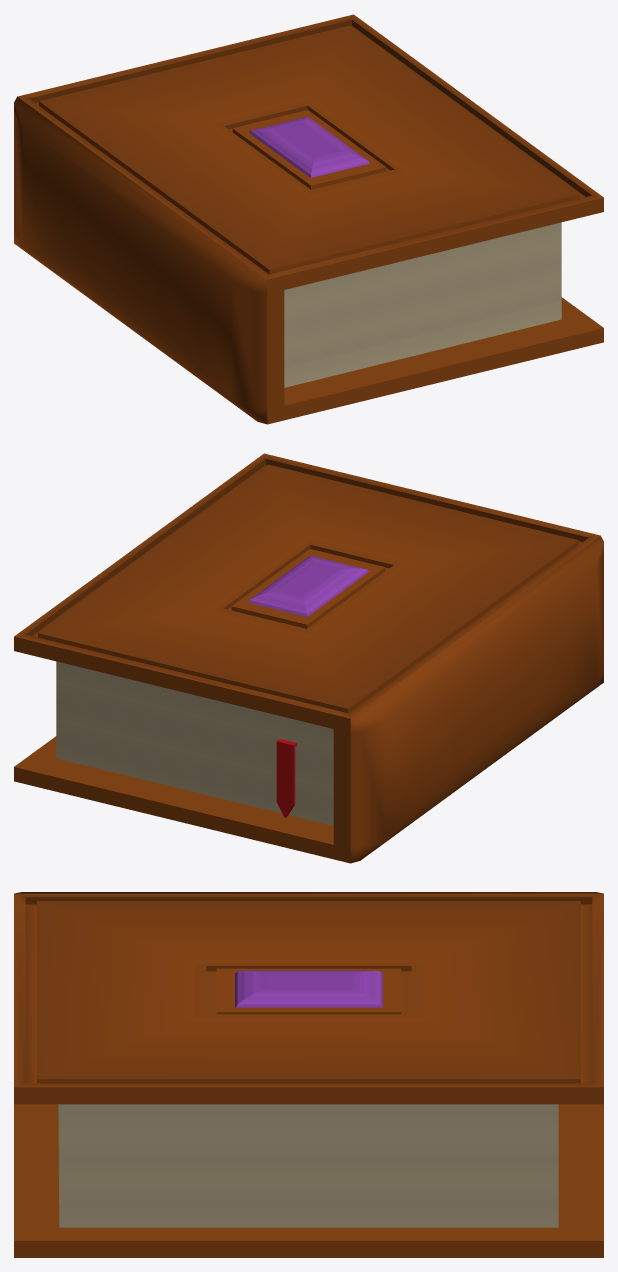
File: AndreParreiras_853209.fbx_ManualArcano.fbx
3 views of the same model, one above another, from view 1: azimuth 30°, elevation 25°; view 2: azimuth 150°, elevation 25°; view 3: azimuth 270°, elevation 25° (orthographic). The views are drawn at different scales.
Visible parts, largest first — view 1: ManualArcano, Gema; view 2: ManualArcano, Gema; view 3: ManualArcano, Gema.
Part boxes in pixels (x1=…): ManualArcano: x1=14, y1=14, x2=603, y2=424; Gema: x1=248, y1=116, x2=370, y2=177; ManualArcano: x1=14, y1=453, x2=603, y2=863; Gema: x1=247, y1=555, x2=369, y2=616; ManualArcano: x1=14, y1=892, x2=603, y2=1257; Gema: x1=235, y1=970, x2=382, y2=1007.
Size of the model in its own units: 25 by 10 by 30.
